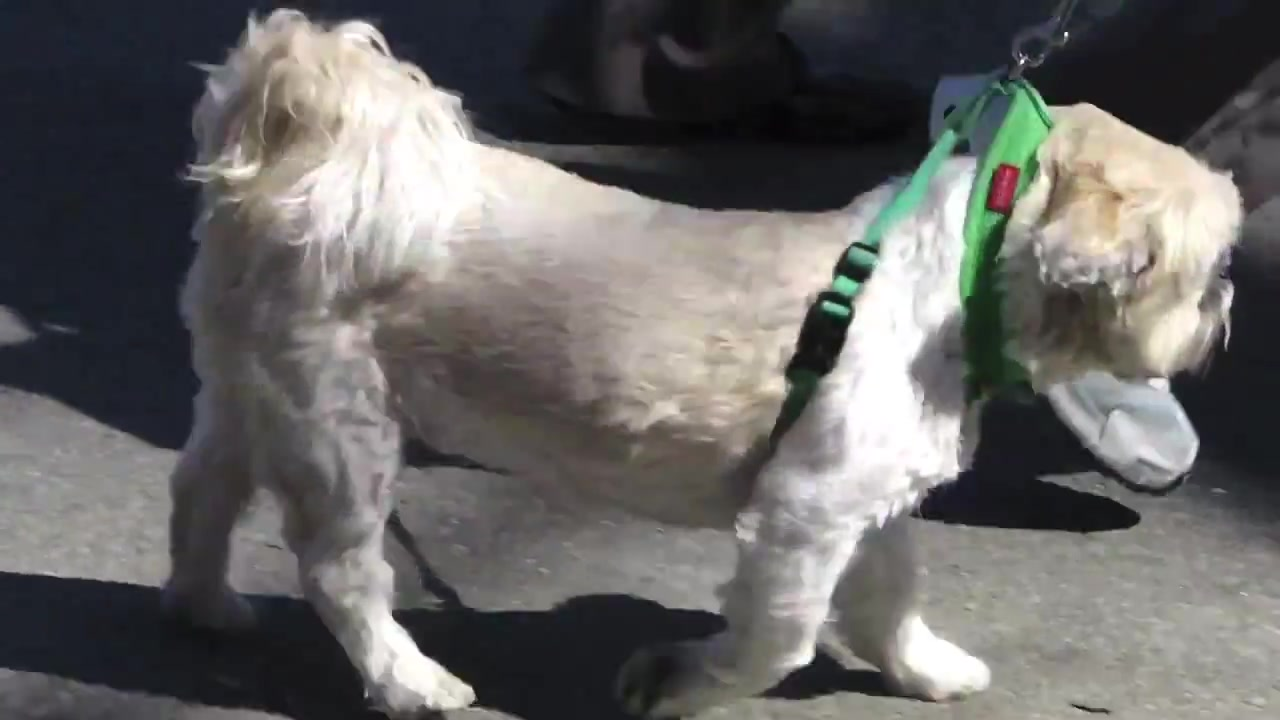dog: (166, 8, 1246, 718)
